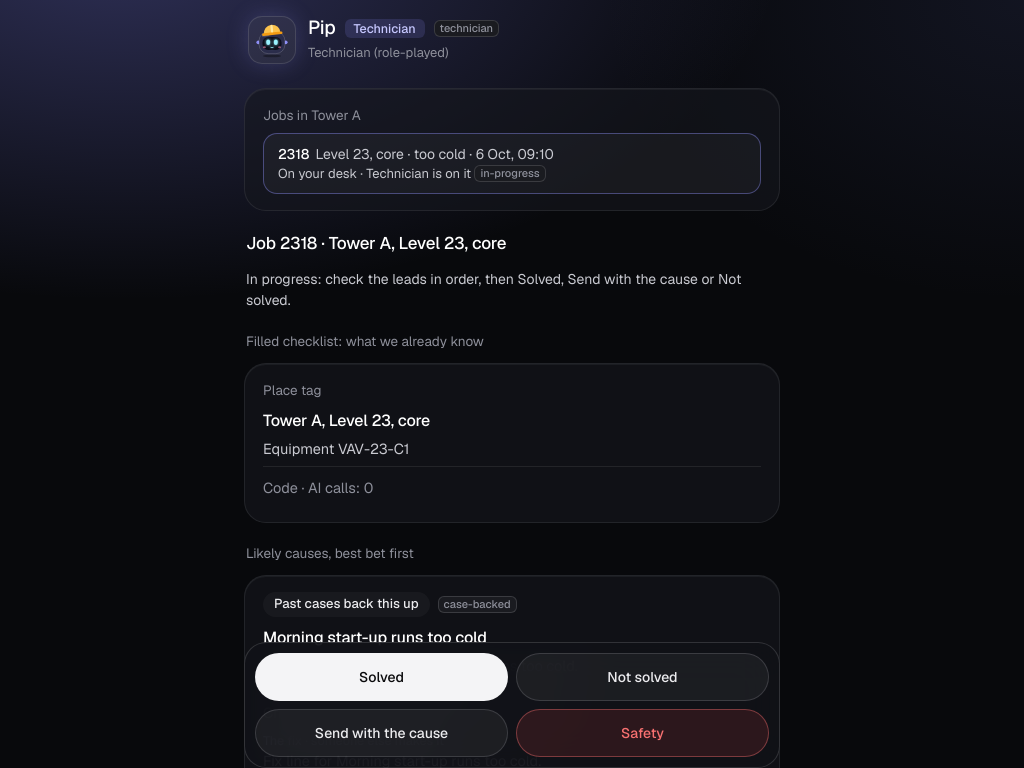
Test case: C7b: Solved, Not solved and Send with the cause › a refused press shows its reason
Step 1. Click the button "Solved" → (382, 677), box [255,653,508,701]
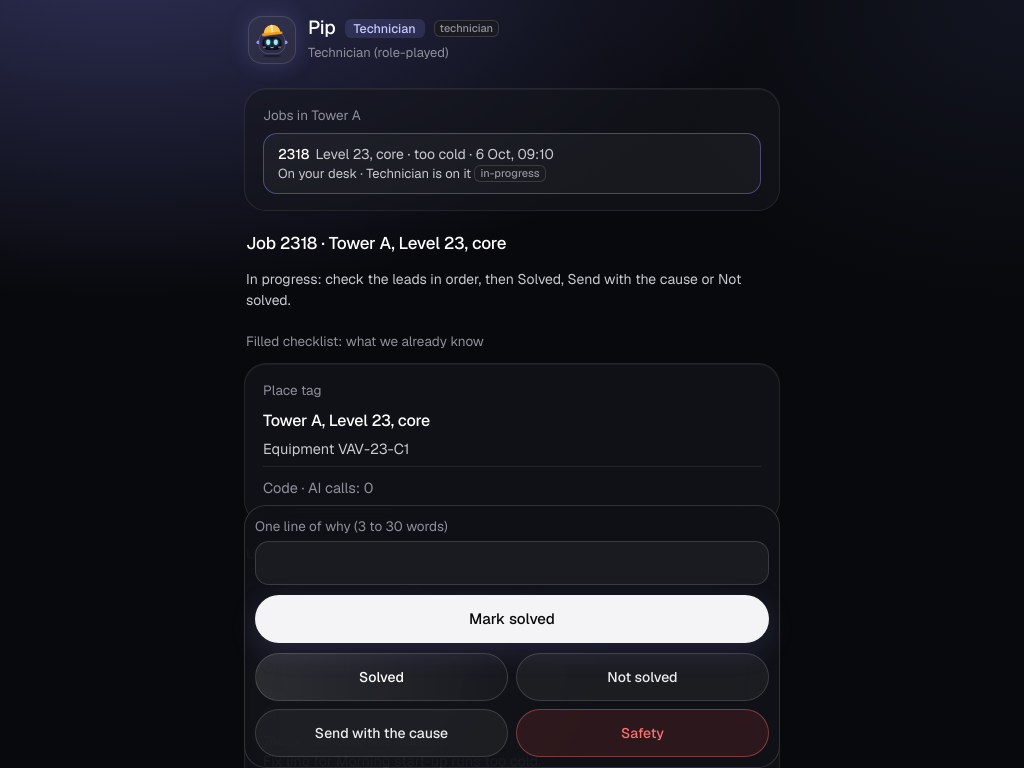
Step 2. Type "It was the thermostat spot." into the field labelled "One line of why (3 to 30 words)" → (512, 563), box [255,541,769,585]
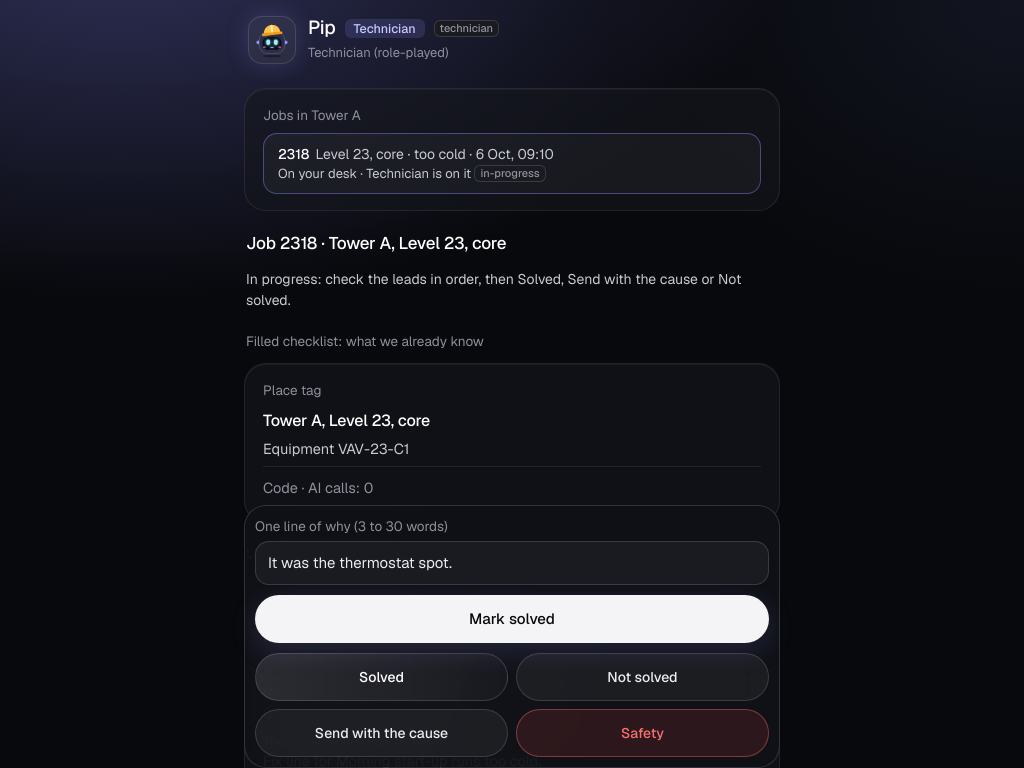
Step 3. Click the button "Mark solved" → (512, 619), box [255,595,769,643]
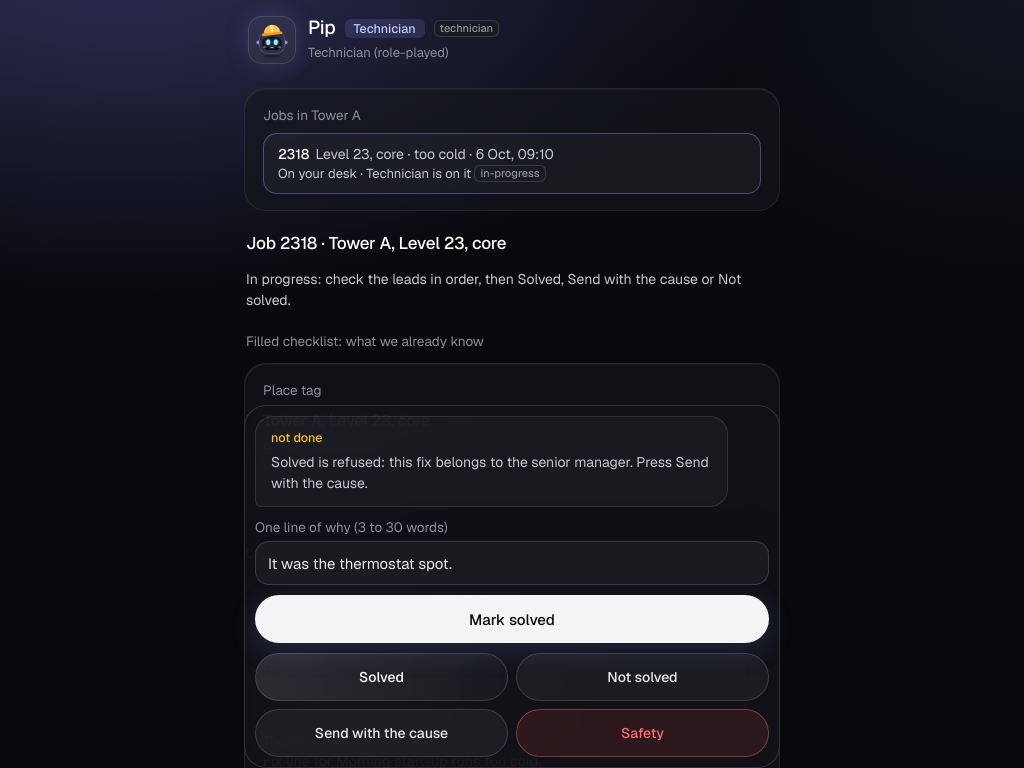
Expected: the text "this fix belongs to the senior manager" is shown, [271,453,709,492]
Expected: the text "this fix belongs to the senior manager" is shown once, [255,416,728,507]
